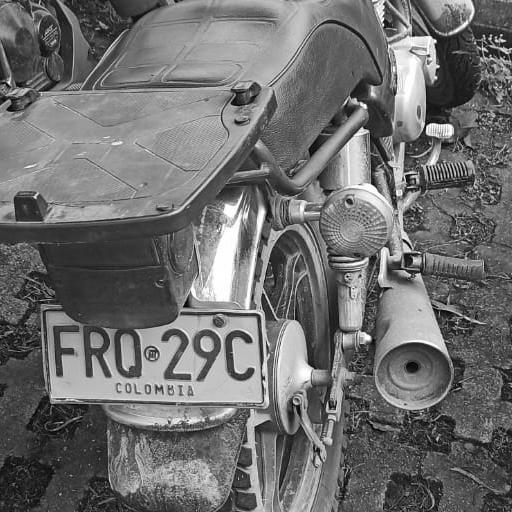placa: (42, 305, 263, 409)
